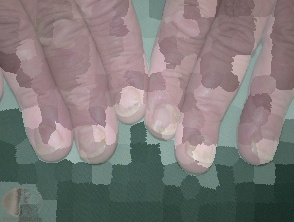Nail_psoriasis: (22, 116, 69, 162), (106, 80, 149, 123), (181, 127, 223, 169), (147, 99, 185, 139), (248, 124, 280, 162), (77, 124, 108, 160)
